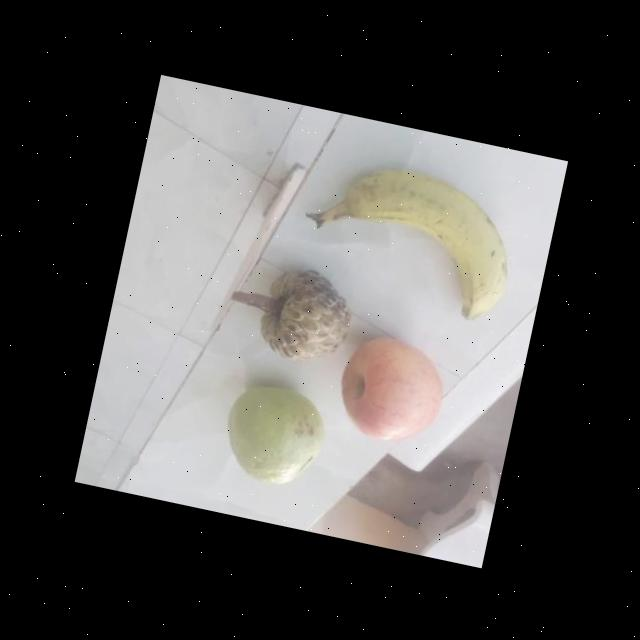Sakya fruit: (248, 262, 358, 370)
apple: (326, 330, 454, 450)
banana: (290, 150, 522, 324)
guava: (214, 378, 328, 488)
